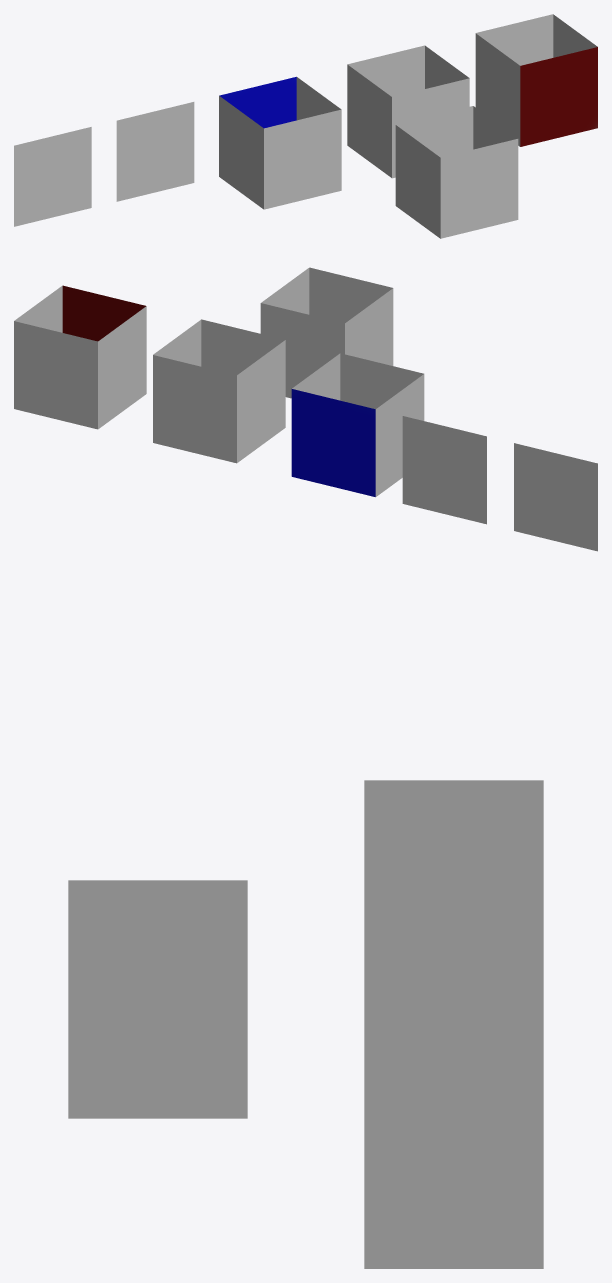
The model's file is TestCubes.fbx.
3 renders of one model, top to bottom at view 1: azimuth 30°, elevation 25°; view 2: azimuth 150°, elevation 25°; view 3: azimuth 270°, elevation 25°, orthographic. The views are drawn at different scales.
Parts seen in each view (by area): view 1: 1.003, 8, 50.002, 50.001, 1.005, 7.001, 25.001, 25.002, 25, 1, 1.004, 50 (+6 smaller); view 2: 1.003, 1.002, 1.001, 1, 1.005, 25, 25.001, 1.004, 25.002, 50.002, 50, 8 (+6 smaller); view 3: 75, 9, 25, 25.001, 7.001, 25.002, 75.001, 75.002.
Part boxes in pixels (<box>): 1.003: <box>116,102,194,201</box>; 8: <box>440,139,518,238</box>; 50.002: <box>520,47,597,146</box>; 50.001: <box>264,109,341,209</box>; 1.005: <box>14,127,91,226</box>; 7.001: <box>395,125,440,238</box>; 25.001: <box>347,64,391,177</box>; 25.002: <box>219,96,263,209</box>; 25: <box>475,33,520,146</box>; 1: <box>476,14,553,65</box>; 1.004: <box>396,106,473,157</box>; 50: <box>392,78,469,178</box>; 1.003: <box>402,416,486,524</box>; 1.002: <box>291,389,375,496</box>; 1.001: <box>153,355,236,463</box>; 1: <box>14,321,97,429</box>; 1.005: <box>514,443,597,551</box>; 25: <box>98,306,146,429</box>; 25.001: <box>237,340,285,462</box>; 1.004: <box>260,303,344,398</box>; 25.002: <box>375,374,424,496</box>; 50.002: <box>62,285,145,341</box>; 50: <box>201,319,284,375</box>; 8: <box>309,267,392,323</box>; 75: <box>364,1106,543,1268</box>; 9: <box>68,956,247,1118</box>; 25: <box>364,1030,543,1106</box>; 25.001: <box>364,905,543,981</box>; 7.001: <box>68,880,247,956</box>; 25.002: <box>364,780,543,855</box>; 75.001: <box>364,981,543,1030</box>; 75.002: <box>364,856,543,905</box>.
Bounding box in the file's own units: 21.03 × 3.03 × 8.03.
